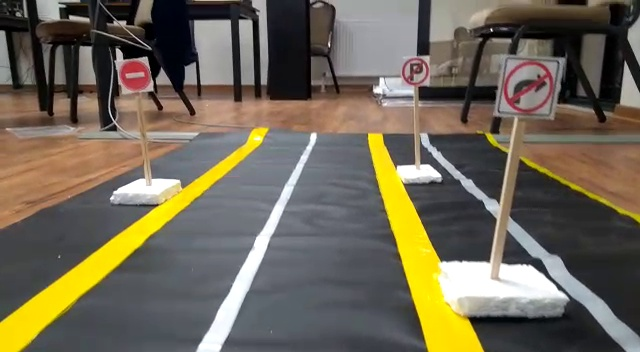girisi_olmayan_yol: (115, 58, 154, 92)
park_yapilmaz: (402, 58, 427, 83)
saga_donulmez: (499, 52, 555, 120)
